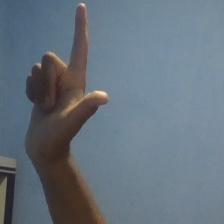L: (21, 2, 112, 162)
